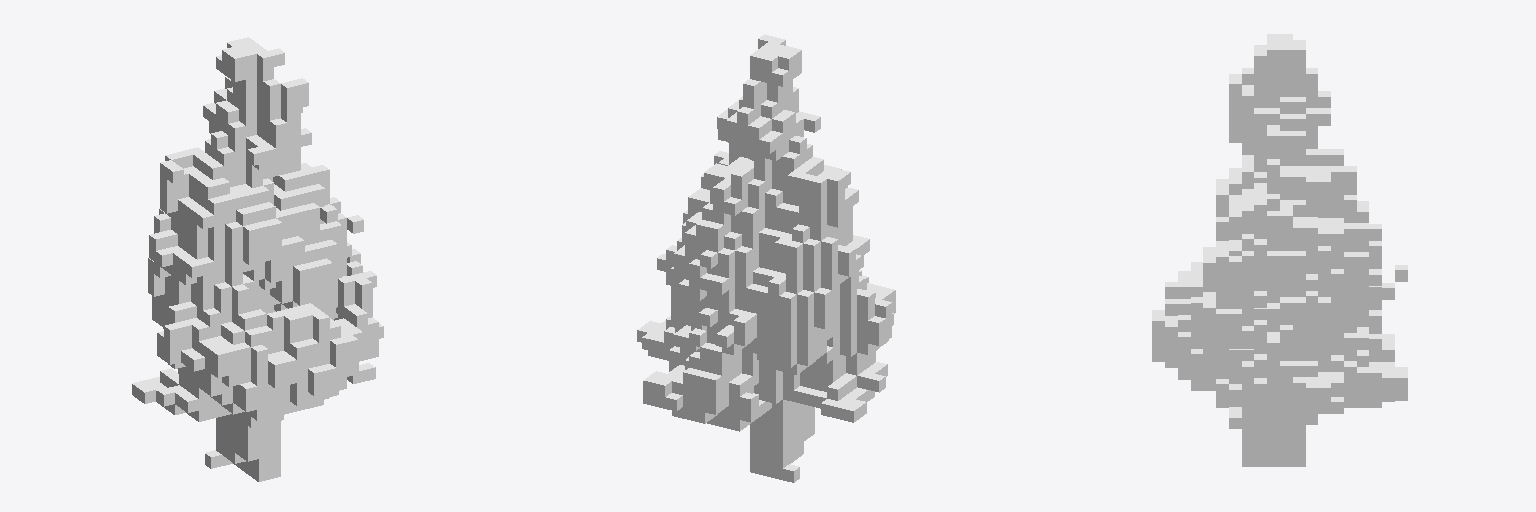
The model's file is pine-single.obj.
3 renders of one model, left to right at view 1: azimuth 30°, elevation 25°; view 2: azimuth 150°, elevation 25°; view 3: azimuth 270°, elevation 25°, orthographic.
Parts seen in each view (by area): view 1: pine-single; view 2: pine-single; view 3: pine-single.
Boxes of the visible parts, <box> form: pine-single: <box>132,37,383,481</box>; pine-single: <box>637,34,895,482</box>; pine-single: <box>1152,34,1407,466</box>.
Size of the model in its own units: 19 by 36 by 20.